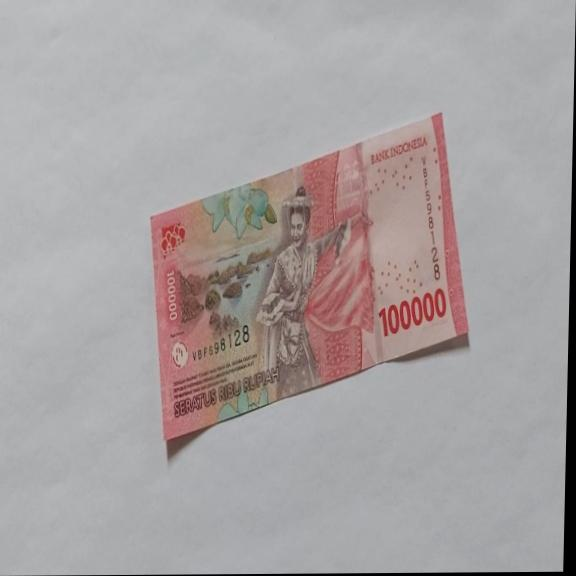Kertas: (376, 286, 448, 338)
